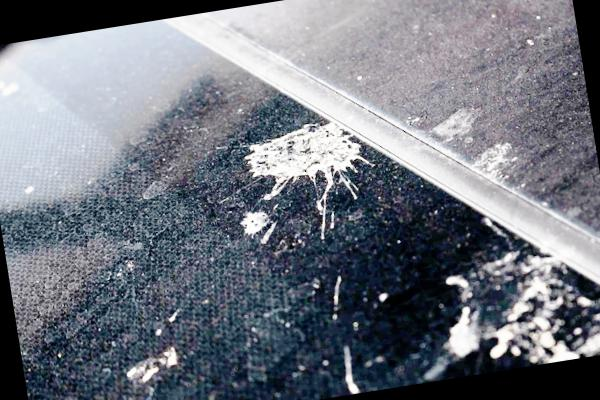Bird Poop: (427, 251, 600, 376), (246, 124, 369, 231), (432, 108, 477, 144), (127, 348, 176, 381), (475, 143, 516, 182), (241, 212, 276, 243), (345, 346, 360, 393), (0, 81, 18, 96)
